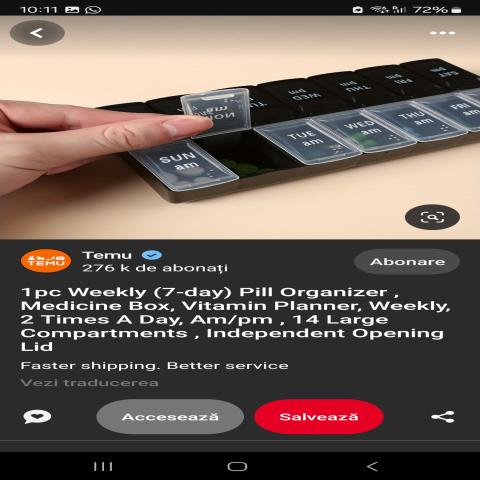Pill-box: (64, 48, 480, 204)
